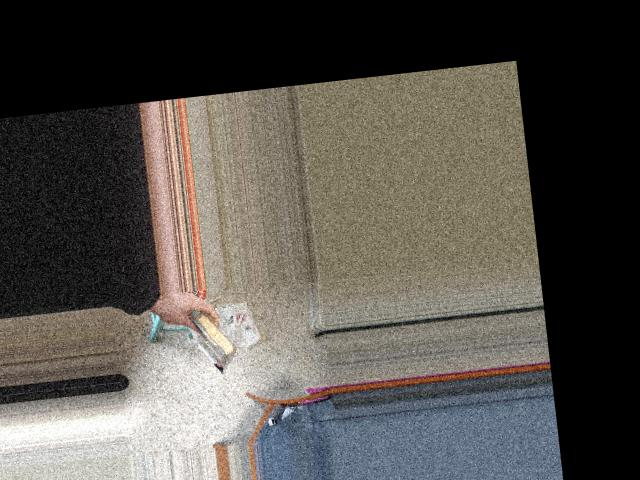cheese: (180, 290, 241, 378)
